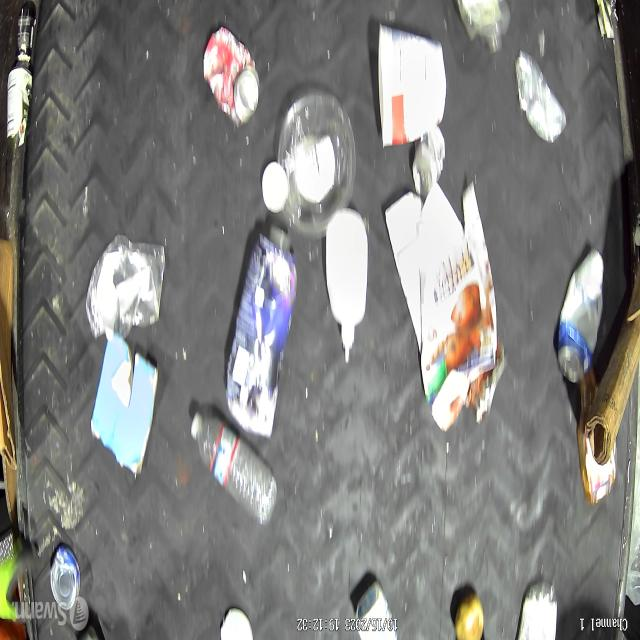can: (554, 240, 606, 386), (200, 22, 260, 129), (411, 125, 445, 198), (5, 68, 33, 151), (48, 543, 81, 611), (17, 4, 38, 65)
plastic_bottle: (189, 409, 278, 532)
